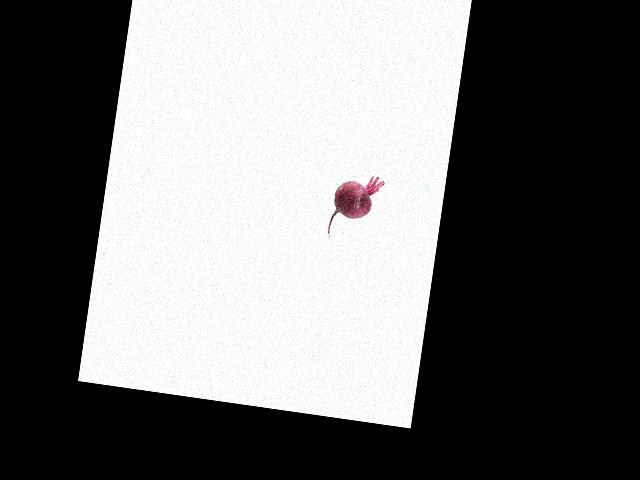beet: (327, 171, 385, 245)
